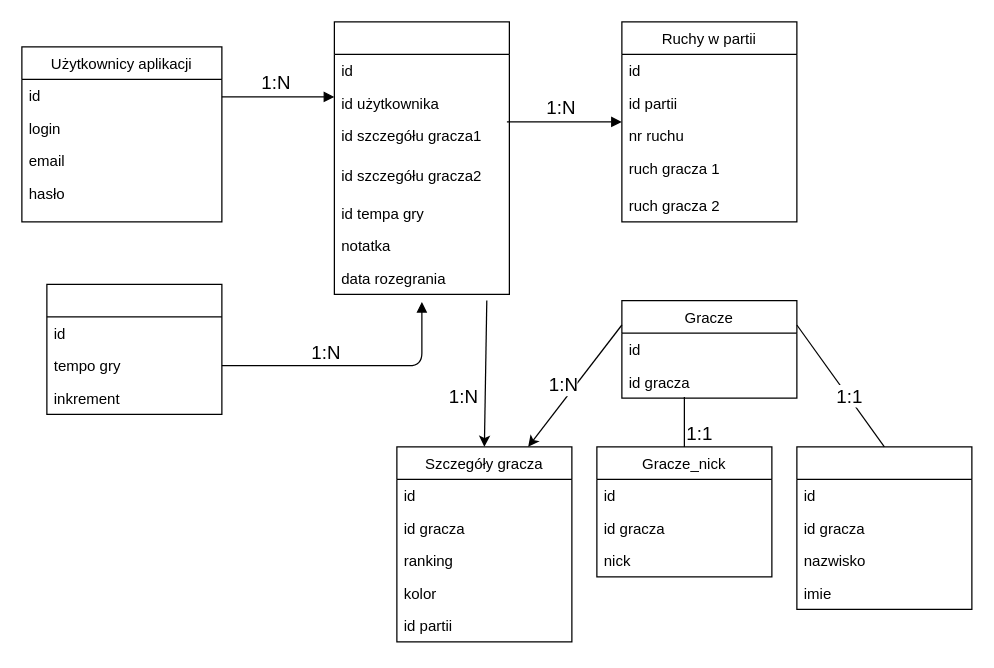
The diagram is 994 pixels wide and 668 high, and some of its shapes have lost their labels. Each missing label, with the box of its shape:
Gracze_imie: (796, 446, 972, 609)
Partie: (333, 21, 509, 294)
Tempa gry: (46, 283, 222, 414)
